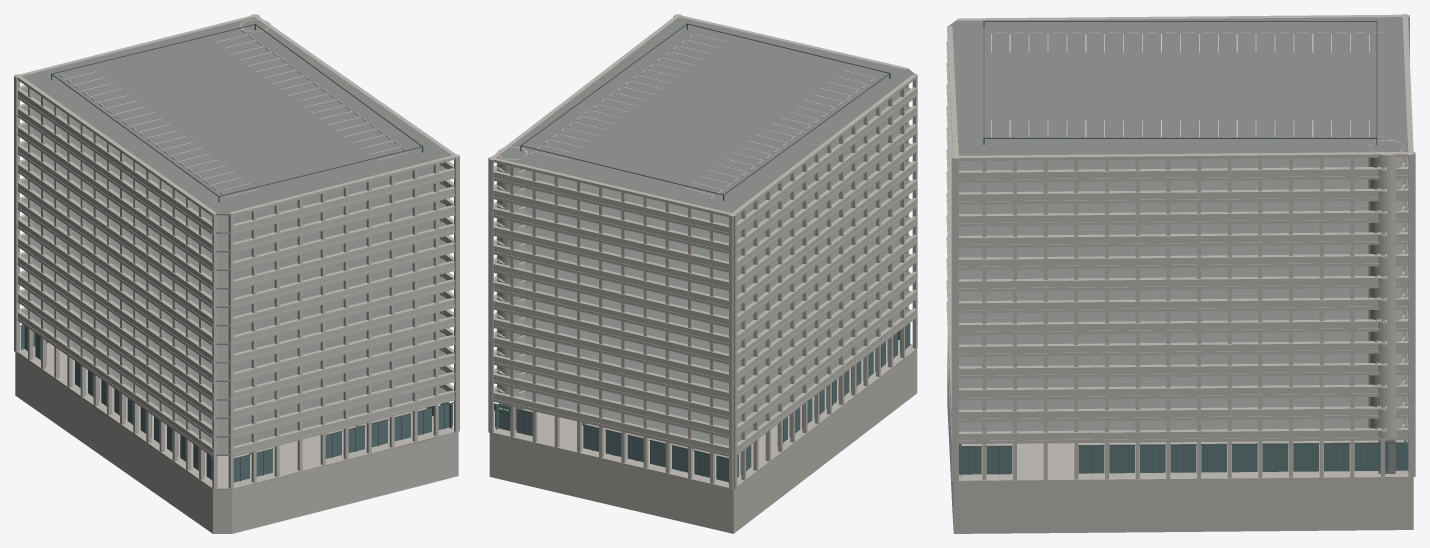
File: franklin_garage.glb
3 renders of one model, left to right at view 1: azimuth 30°, elevation 25°; view 2: azimuth 150°, elevation 25°; view 3: azimuth 270°, elevation 25°, orthographic. The views are drawn at different scales.
Parts seen in each view (by area): view 1: Pale cast concrete garage structure, Grey parking slabs and ramps, Recessed retail glass, Dark metal retail frames and guardrails, Pale physical sign lettering; view 2: Pale cast concrete garage structure, Grey parking slabs and ramps, Recessed retail glass, Dark metal retail frames and guardrails, Pale physical sign lettering; view 3: Pale cast concrete garage structure, Grey parking slabs and ramps, Recessed retail glass, Dark metal retail frames and guardrails, Pale physical sign lettering.
Boxes of the visible parts, box(x1,y1,x2,y2) form: Pale cast concrete garage structure: box(14, 14, 459, 533); Grey parking slabs and ramps: box(17, 17, 451, 489); Recessed retail glass: box(20, 324, 453, 482); Dark metal retail frames and guardrails: box(20, 23, 453, 481); Pale physical sign lettering: box(65, 34, 408, 197); Pale cast concrete garage structure: box(488, 14, 917, 533); Grey parking slabs and ramps: box(494, 17, 916, 483); Recessed retail glass: box(494, 323, 910, 483); Dark metal retail frames and guardrails: box(494, 23, 905, 481); Pale physical sign lettering: box(499, 34, 875, 411); Pale cast concrete garage structure: box(946, 14, 1415, 533); Grey parking slabs and ramps: box(948, 17, 1408, 473); Recessed retail glass: box(959, 440, 1408, 476); Dark metal retail frames and guardrails: box(959, 20, 1408, 474); Pale physical sign lettering: box(991, 34, 1407, 441).
Size of the model in its own units: 47.15 by 58.1 by 64.48.
